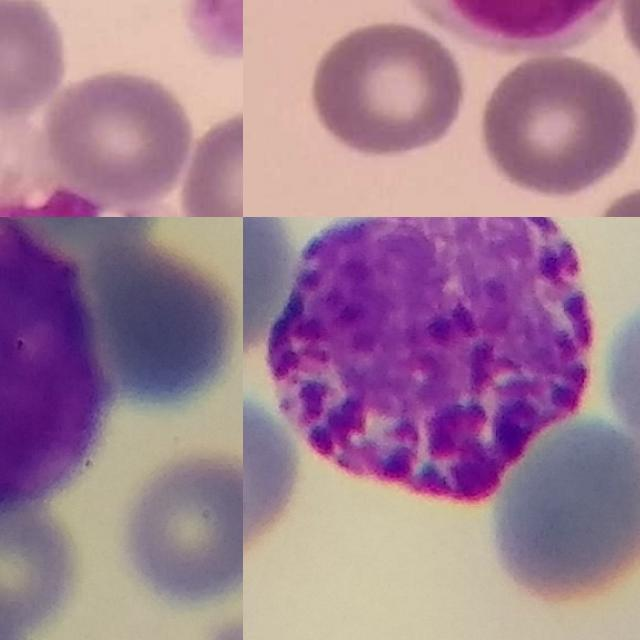Basophil: (265, 217, 593, 503), (0, 217, 109, 547)
Monocyte: (0, 118, 184, 217)
